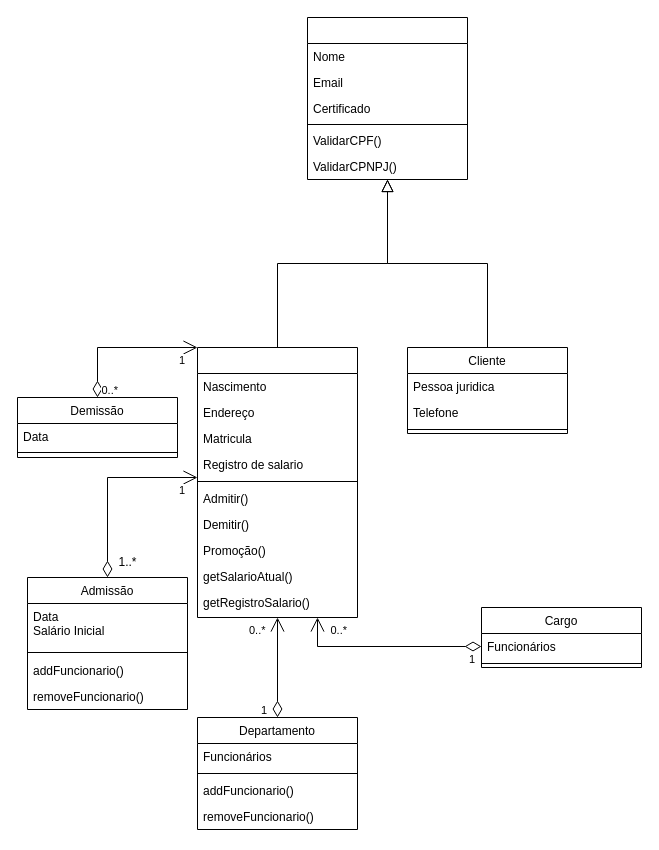
Some shapes in this 659 by 850 pixel diagram are drawn without their labels. The shapes that lost their labels are listed below. From the top down, each one's box as (x1, y1, x2, y2) in pixels, then its label:
(306, 16, 468, 180): Pessoa
(196, 346, 358, 618): Funcionario
